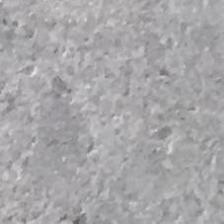Non_Crack: (30, 17, 197, 190)
